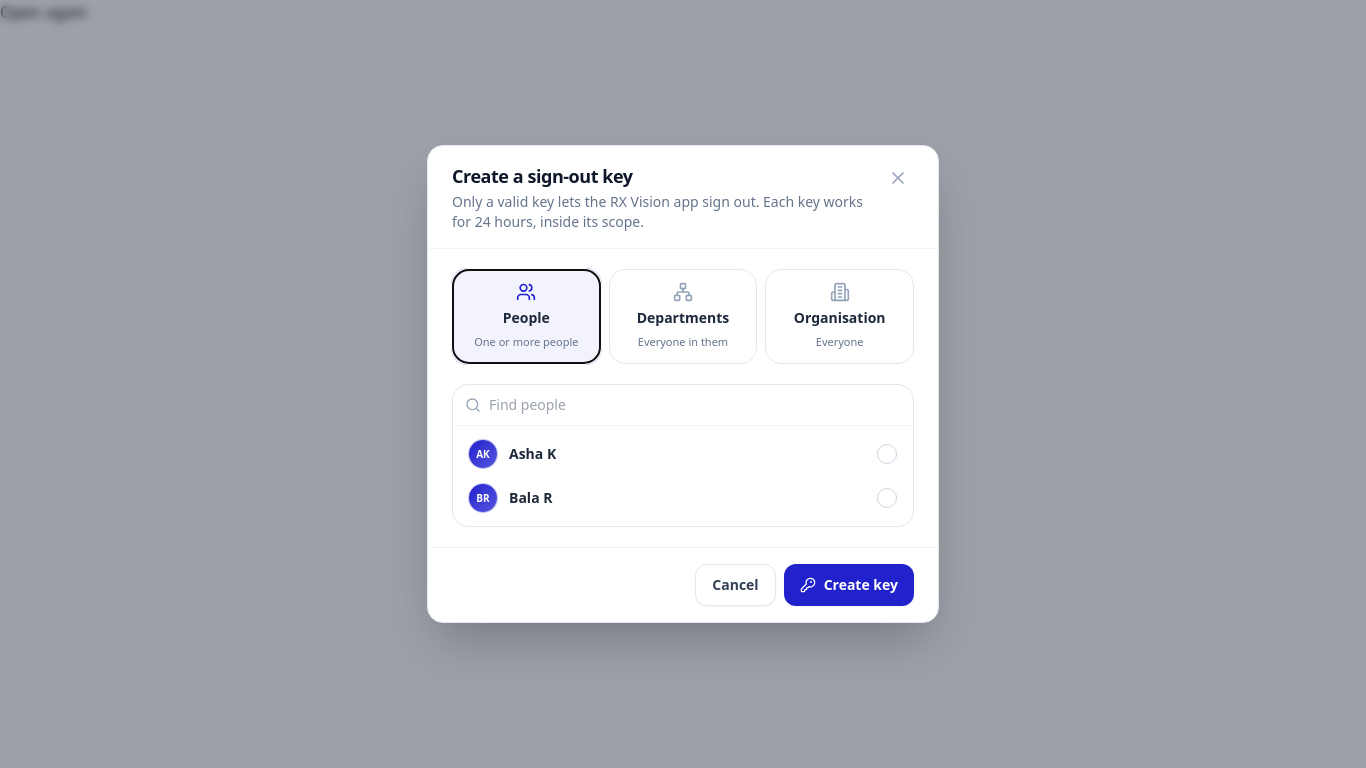
Test: CreateKeyDialog (SPEC 2.8) › needs someone in scope before it creates a people key
The image size is (1366, 768).
Click the button "Create key": (849, 585) [784,564,914,606]
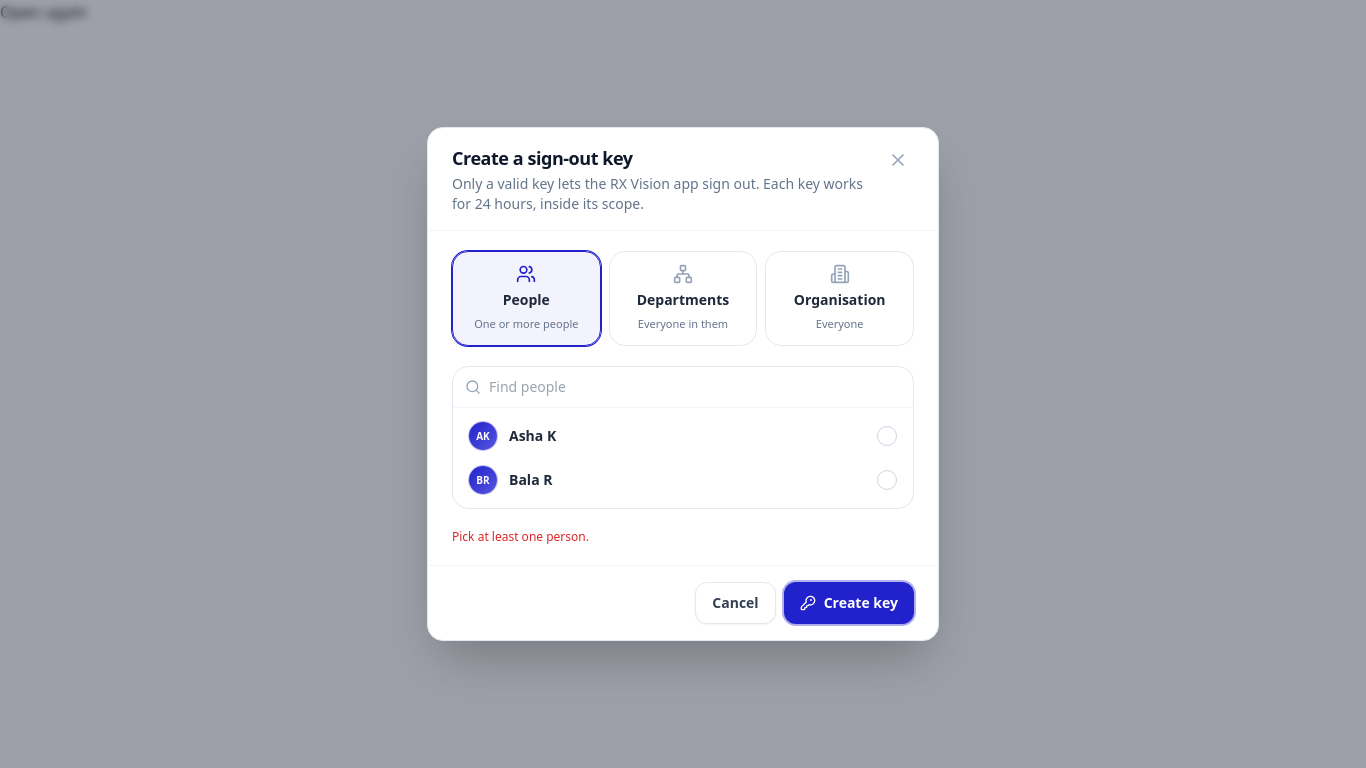
Expected: the text "Pick at least one person." is shown, [452,528,589,545]
